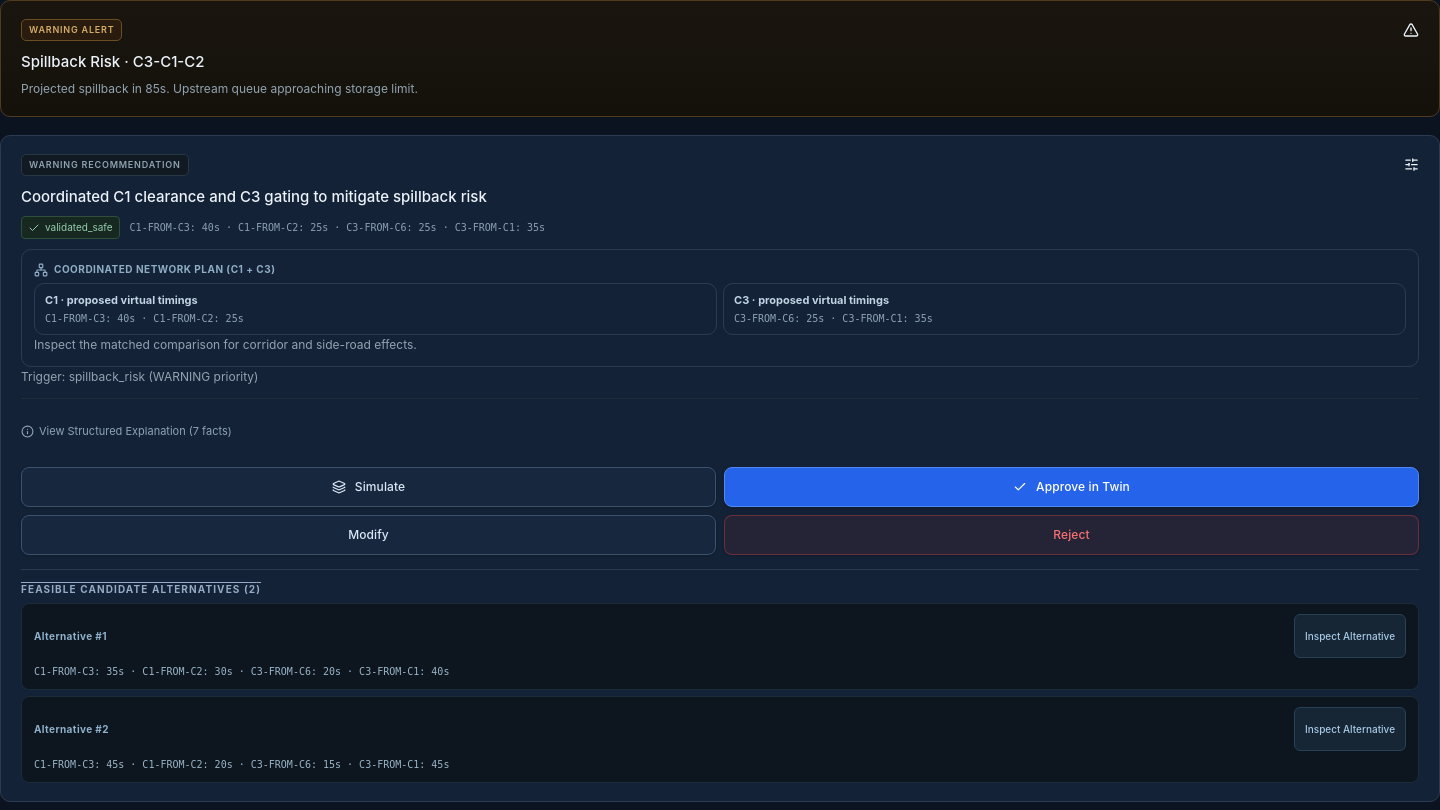
Test: Epic 6: AGDA & Network Recommendations (S16, S17, S18, S19) › Story S19: renders traceable explanation facts without invented ML claims
The width and height of the screenshot is (1440, 810).
Expected: the text "Trigger: spillback_risk (WARNING priority)" is shown, [21,369,258,384]
# Expandable structured explanation facts
Click the button "View Structured Explanation (7 facts)": (126, 431) [21,409,232,453]
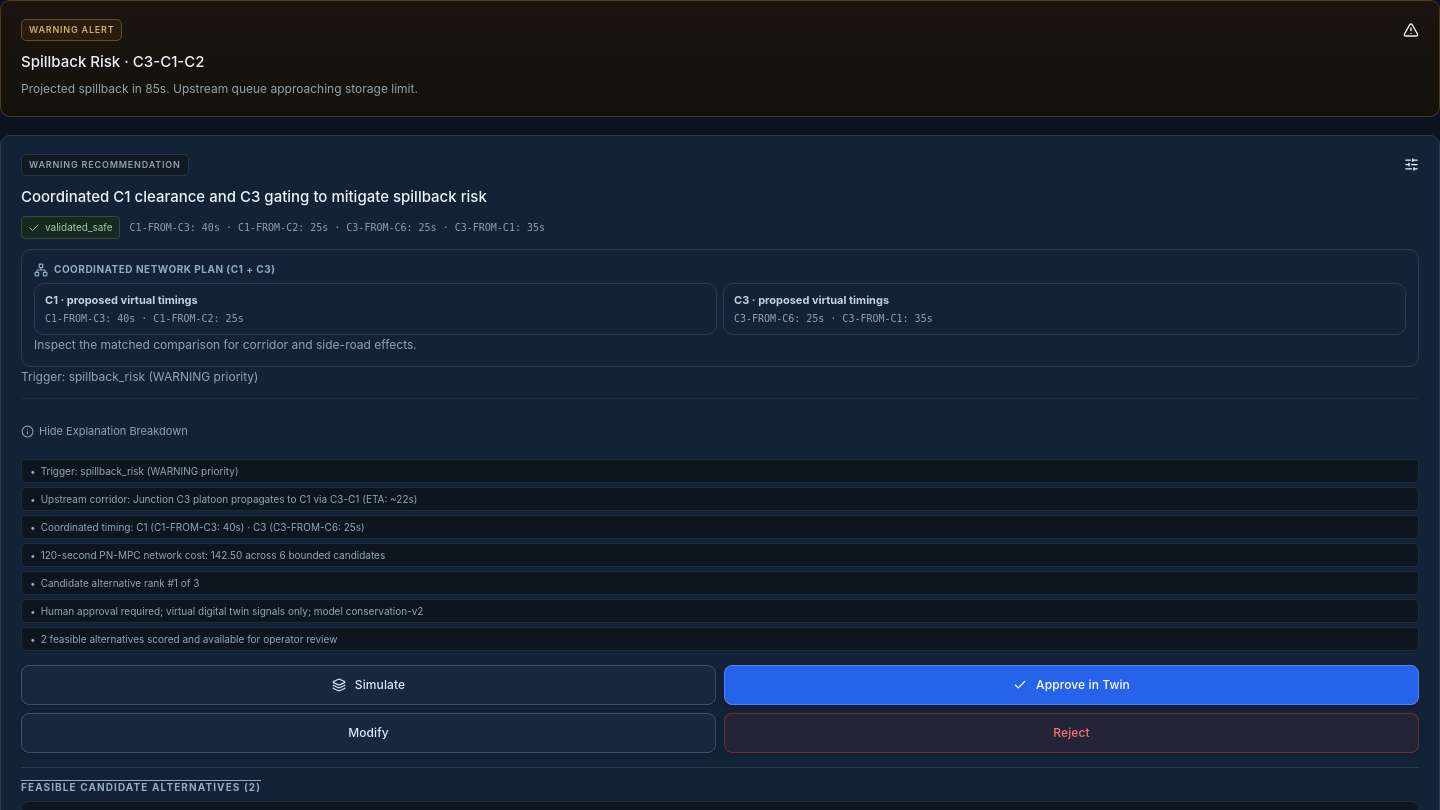
Expected: the text "120-second PN-MPC network cost: 142.50 across 6 bounded candidates" is shown, [41,548,385,562]
Expected: the text "Human approval required; virtual digital twin signals only; model conservation-v2" is shown, [41,605,423,617]
Expected: the text "2 feasible alternatives scored and available for operator review" is shown, [41,632,337,646]
